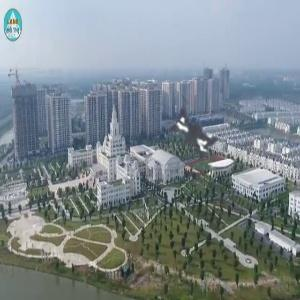drone: (129, 63, 266, 200)
